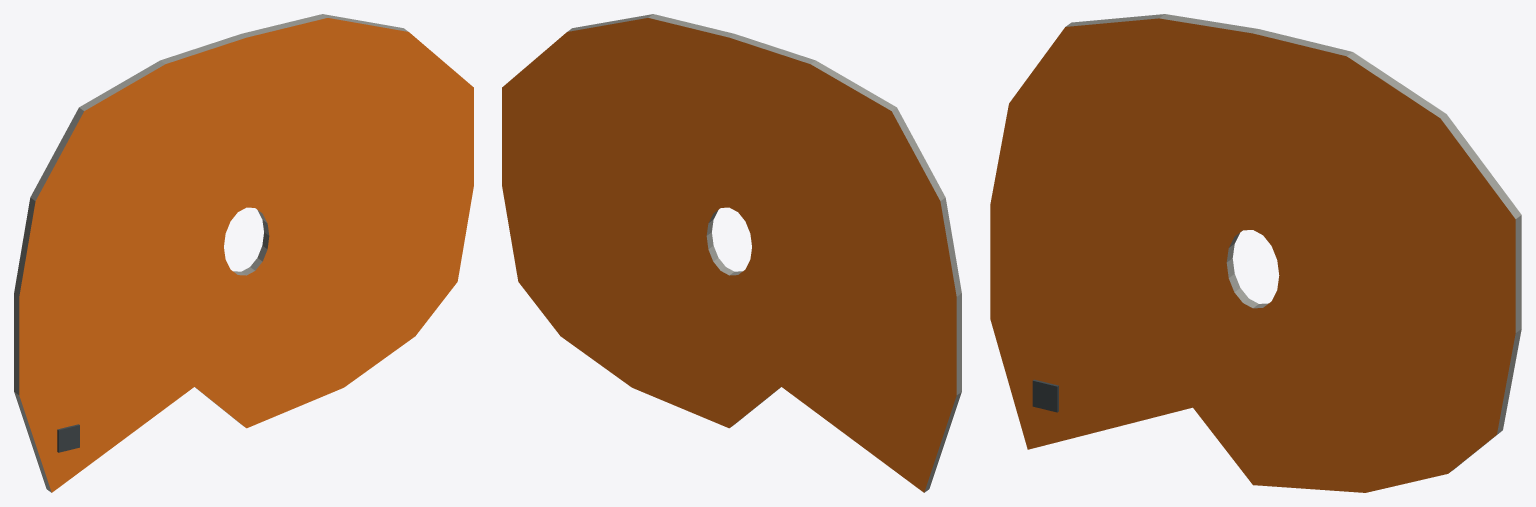
File: item_palette1.obj
3 views of the same model, side by side, from view 1: azimuth 30°, elevation 25°; view 2: azimuth 150°, elevation 25°; view 3: azimuth 330°, elevation 25° (orthographic). The views are drawn at different scales.
Parts seen in each view (by area): view 1: wooden_palette_with_open_thumb_hole_and_grip_notch, native_cumulative_paint_state; view 2: wooden_palette_with_open_thumb_hole_and_grip_notch; view 3: wooden_palette_with_open_thumb_hole_and_grip_notch, native_cumulative_paint_state.
Part boxes in pixels (left/top/right/bottom): wooden_palette_with_open_thumb_hole_and_grip_notch: left=14, top=14, right=473, bottom=492; native_cumulative_paint_state: left=57, top=424, right=79, bottom=452; wooden_palette_with_open_thumb_hole_and_grip_notch: left=502, top=14, right=961, bottom=492; wooden_palette_with_open_thumb_hole_and_grip_notch: left=990, top=14, right=1521, bottom=492; native_cumulative_paint_state: left=1032, top=379, right=1058, bottom=412.
Size of the model in its own units: 0.875 by 0.75 by 0.0219.
